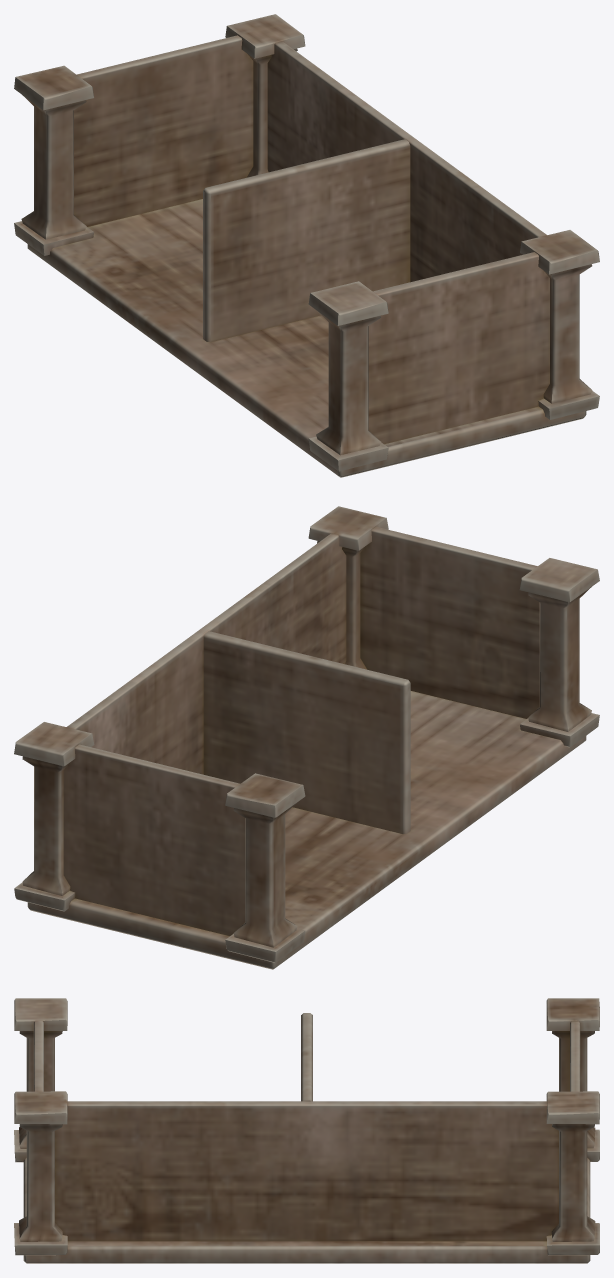
The model's file is SM_cabinet_middle_01.fbx.
The picture shows the model from 3 angles, top to bottom: view 1: azimuth 30°, elevation 25°; view 2: azimuth 150°, elevation 25°; view 3: azimuth 270°, elevation 25°; orthographic projection. The views are drawn at different scales.
Parts seen in each view (by area): view 1: SM_cabinet_middle_01_LOD0; view 2: SM_cabinet_middle_01_LOD0; view 3: SM_cabinet_middle_01_LOD0.
Boxes of the visible parts, left/top/right/bottom form: SM_cabinet_middle_01_LOD0: left=14, top=14, right=599, bottom=477; SM_cabinet_middle_01_LOD0: left=14, top=506, right=599, bottom=969; SM_cabinet_middle_01_LOD0: left=14, top=998, right=599, bottom=1263.
Size of the model in its own units: 69.56 by 149 by 43.33.
Materials: 1 (1 with a texture image).
